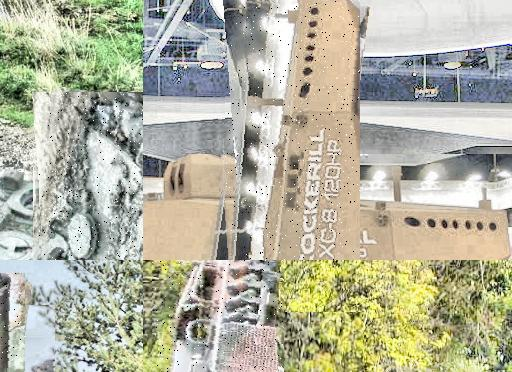tanks: (263, 1, 361, 261), (44, 93, 144, 261), (170, 261, 283, 372), (1, 276, 26, 372)
